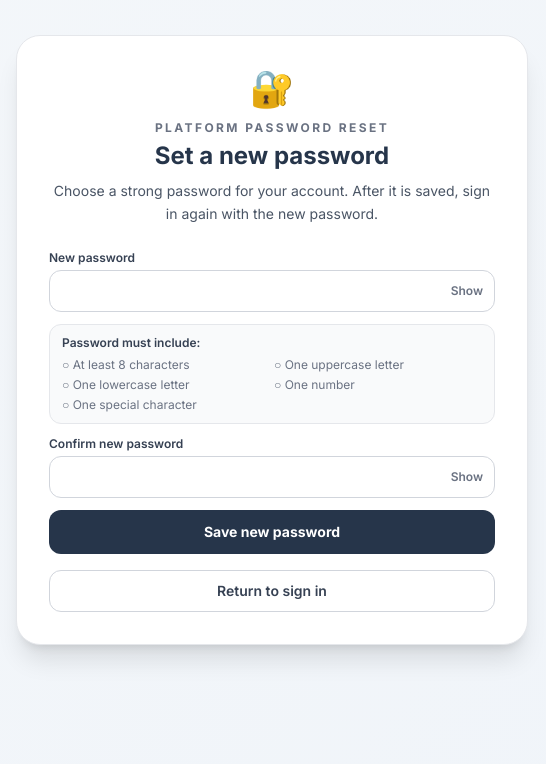
Test: PasswordRecoveryScreen › never renders a raw infrastructure error
The width and height of the screenshot is (546, 764).
Type "Newpass12!" into the password field labelled "New password". click: (272, 291)
box: [49, 270, 495, 312]
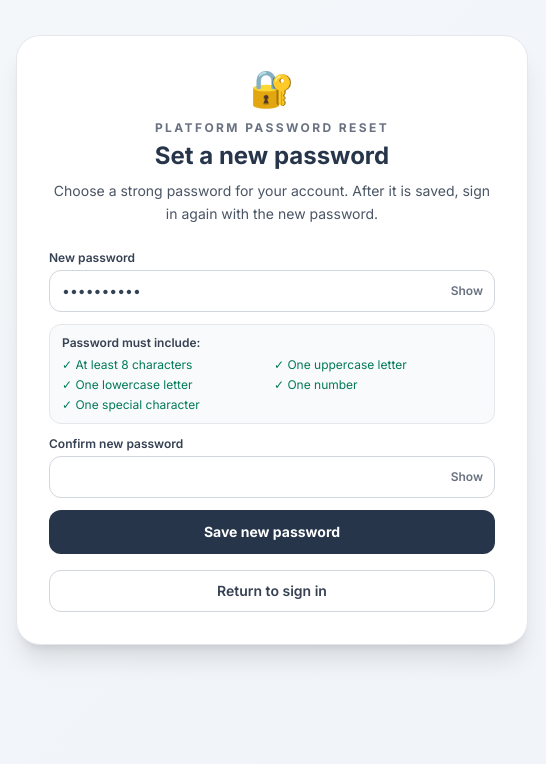
Type "Newpass12!" into the password field labelled "Confirm new password". click: (272, 477)
box: [49, 456, 495, 498]
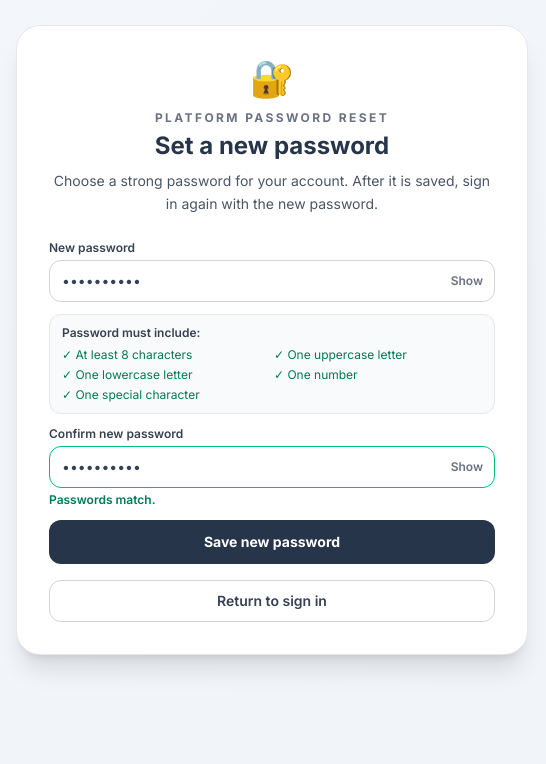
Click the button "Save new password". click: (272, 542)
box: [49, 520, 495, 564]
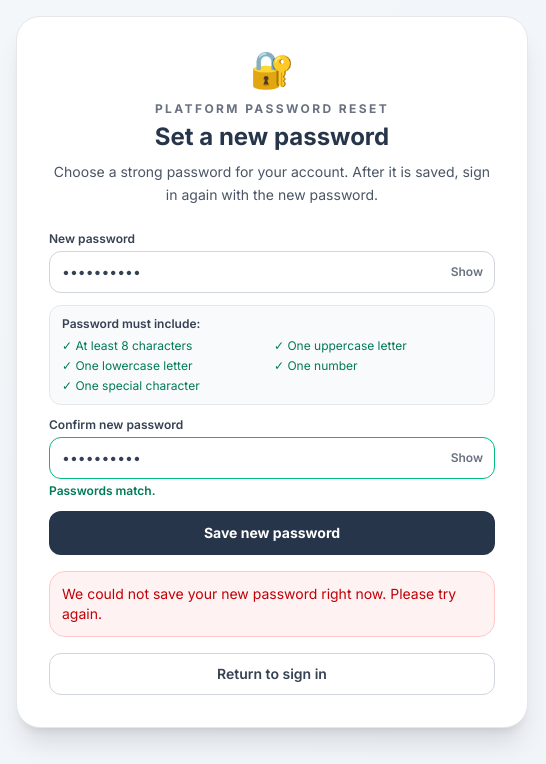
Expected: the message "We could not save your new password right now. Please try again." is shown, [49, 570, 495, 636]
